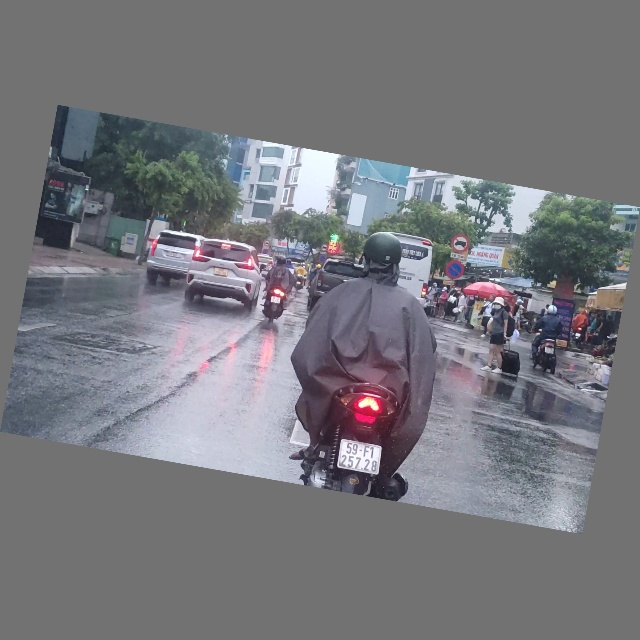P.106a*Xe tai: (449, 233, 471, 255), (320, 244, 328, 252)
P.131a: (444, 258, 466, 281), (318, 255, 327, 264)
